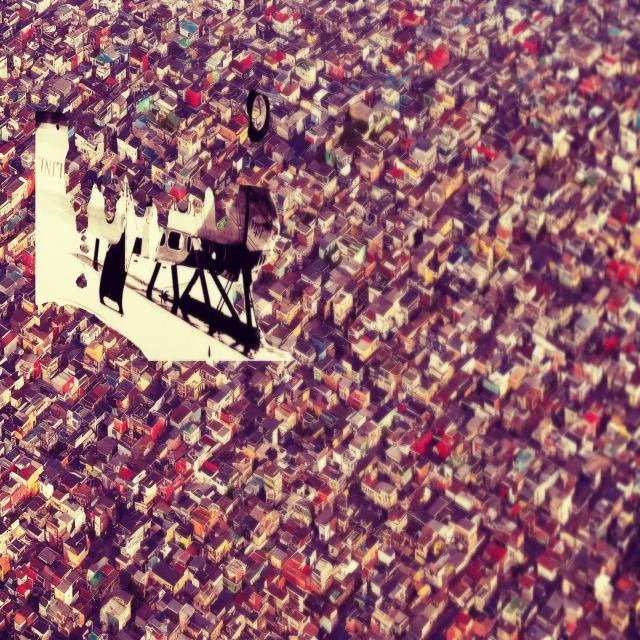airplane: (36, 109, 296, 362)
